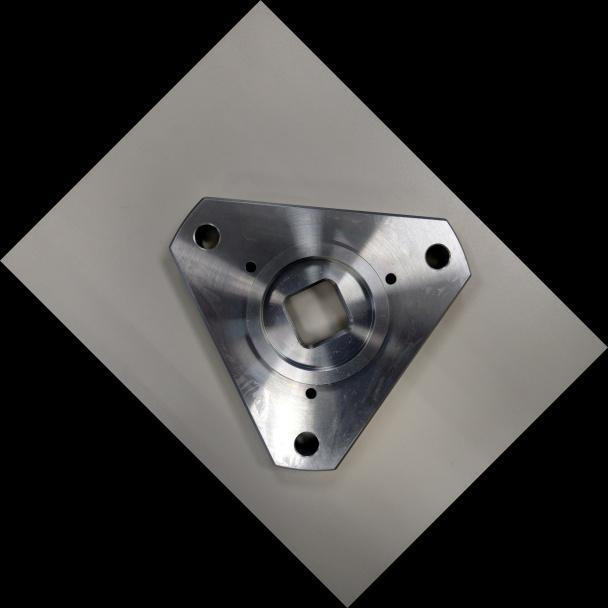hole: (184, 213, 229, 258), (284, 421, 328, 465), (416, 235, 459, 277), (299, 381, 323, 405), (238, 255, 262, 278), (380, 267, 403, 290)
